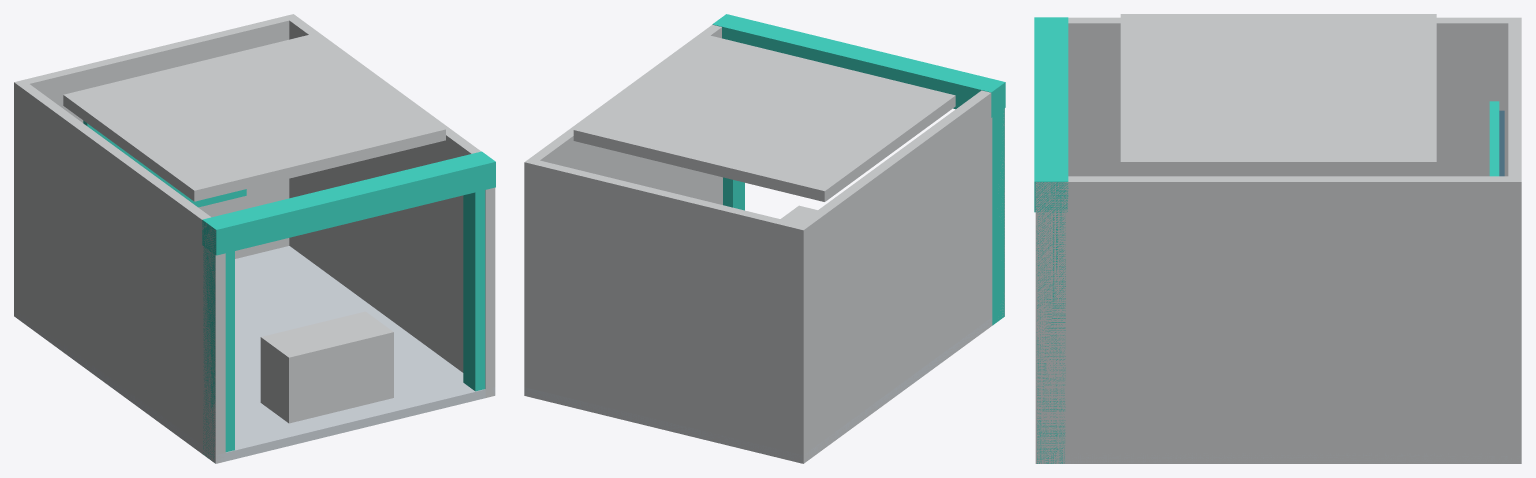
3 renders of one model, left to right at view 1: azimuth 30°, elevation 25°; view 2: azimuth 150°, elevation 25°; view 3: azimuth 270°, elevation 25°, orthographic. The views are drawn at different scales.
Parts seen in each view (by area): view 1: Exhibition Booth Concept; view 2: Exhibition Booth Concept; view 3: Exhibition Booth Concept.
Part boxes in pixels (left/top/right/bottom): Exhibition Booth Concept: left=14, top=14, right=495, bottom=463; Exhibition Booth Concept: left=524, top=14, right=1005, bottom=463; Exhibition Booth Concept: left=1034, top=14, right=1521, bottom=463.
Size of the model in its own units: 4 by 3.34 by 5.02.
